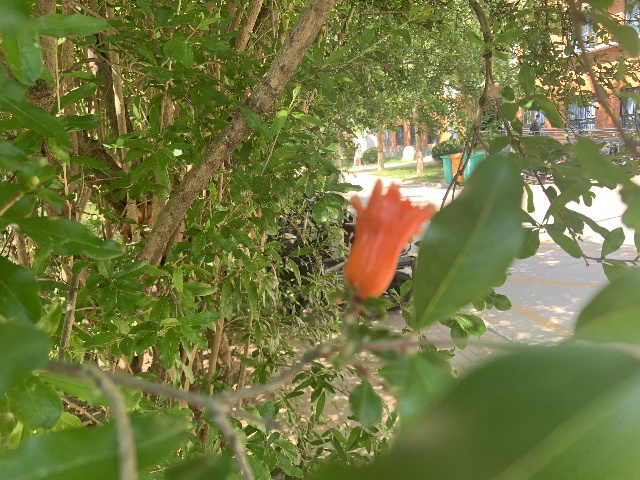bud: (506, 2, 514, 7)
flower: (344, 177, 436, 298)
